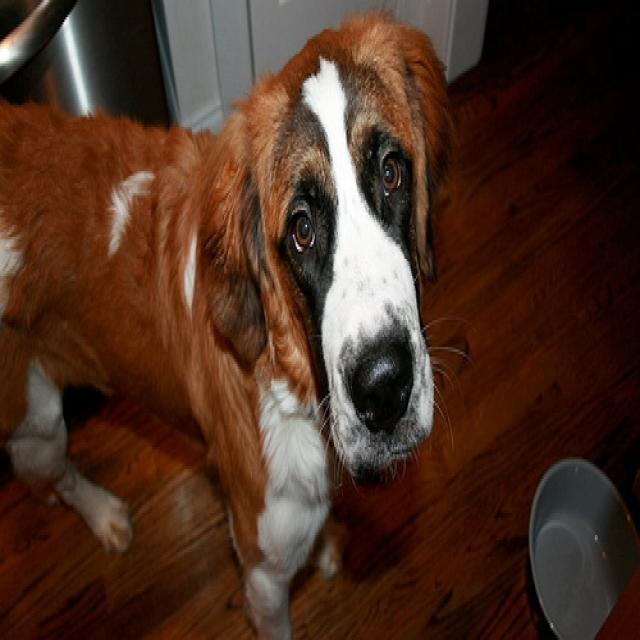dog-saint_bernard: (1, 12, 483, 635)
